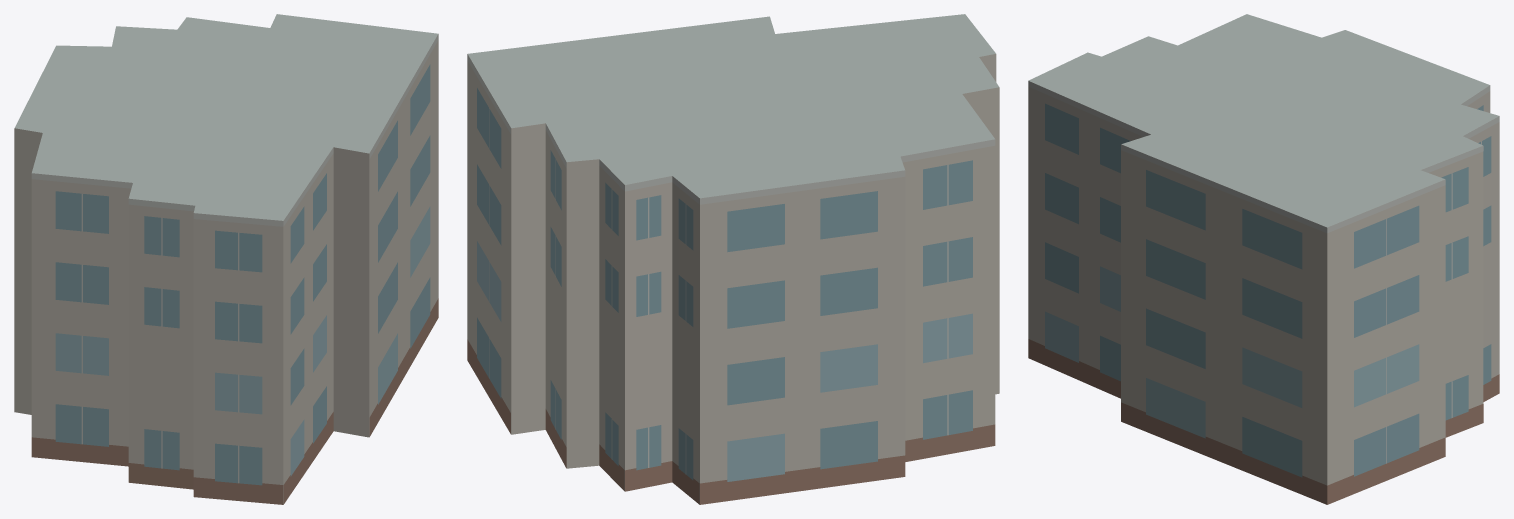
File: survey-upis-32634221.glb
3 views of the same model, side by side, from view 1: azimuth 30°, elevation 25°; view 2: azimuth 150°, elevation 25°; view 3: azimuth 270°, elevation 25° (orthographic). The views are drawn at different scales.
Visible parts, largest first — view 1: survey-upis-32634221.tmp; view 2: survey-upis-32634221.tmp; view 3: survey-upis-32634221.tmp.
Part boxes in pixels (<box>): survey-upis-32634221.tmp: <box>14,14,438,504</box>; survey-upis-32634221.tmp: <box>467,14,999,504</box>; survey-upis-32634221.tmp: <box>1028,14,1499,504</box>.
Bounding box in the file's own units: 19.33 × 11.7 × 18.03.
